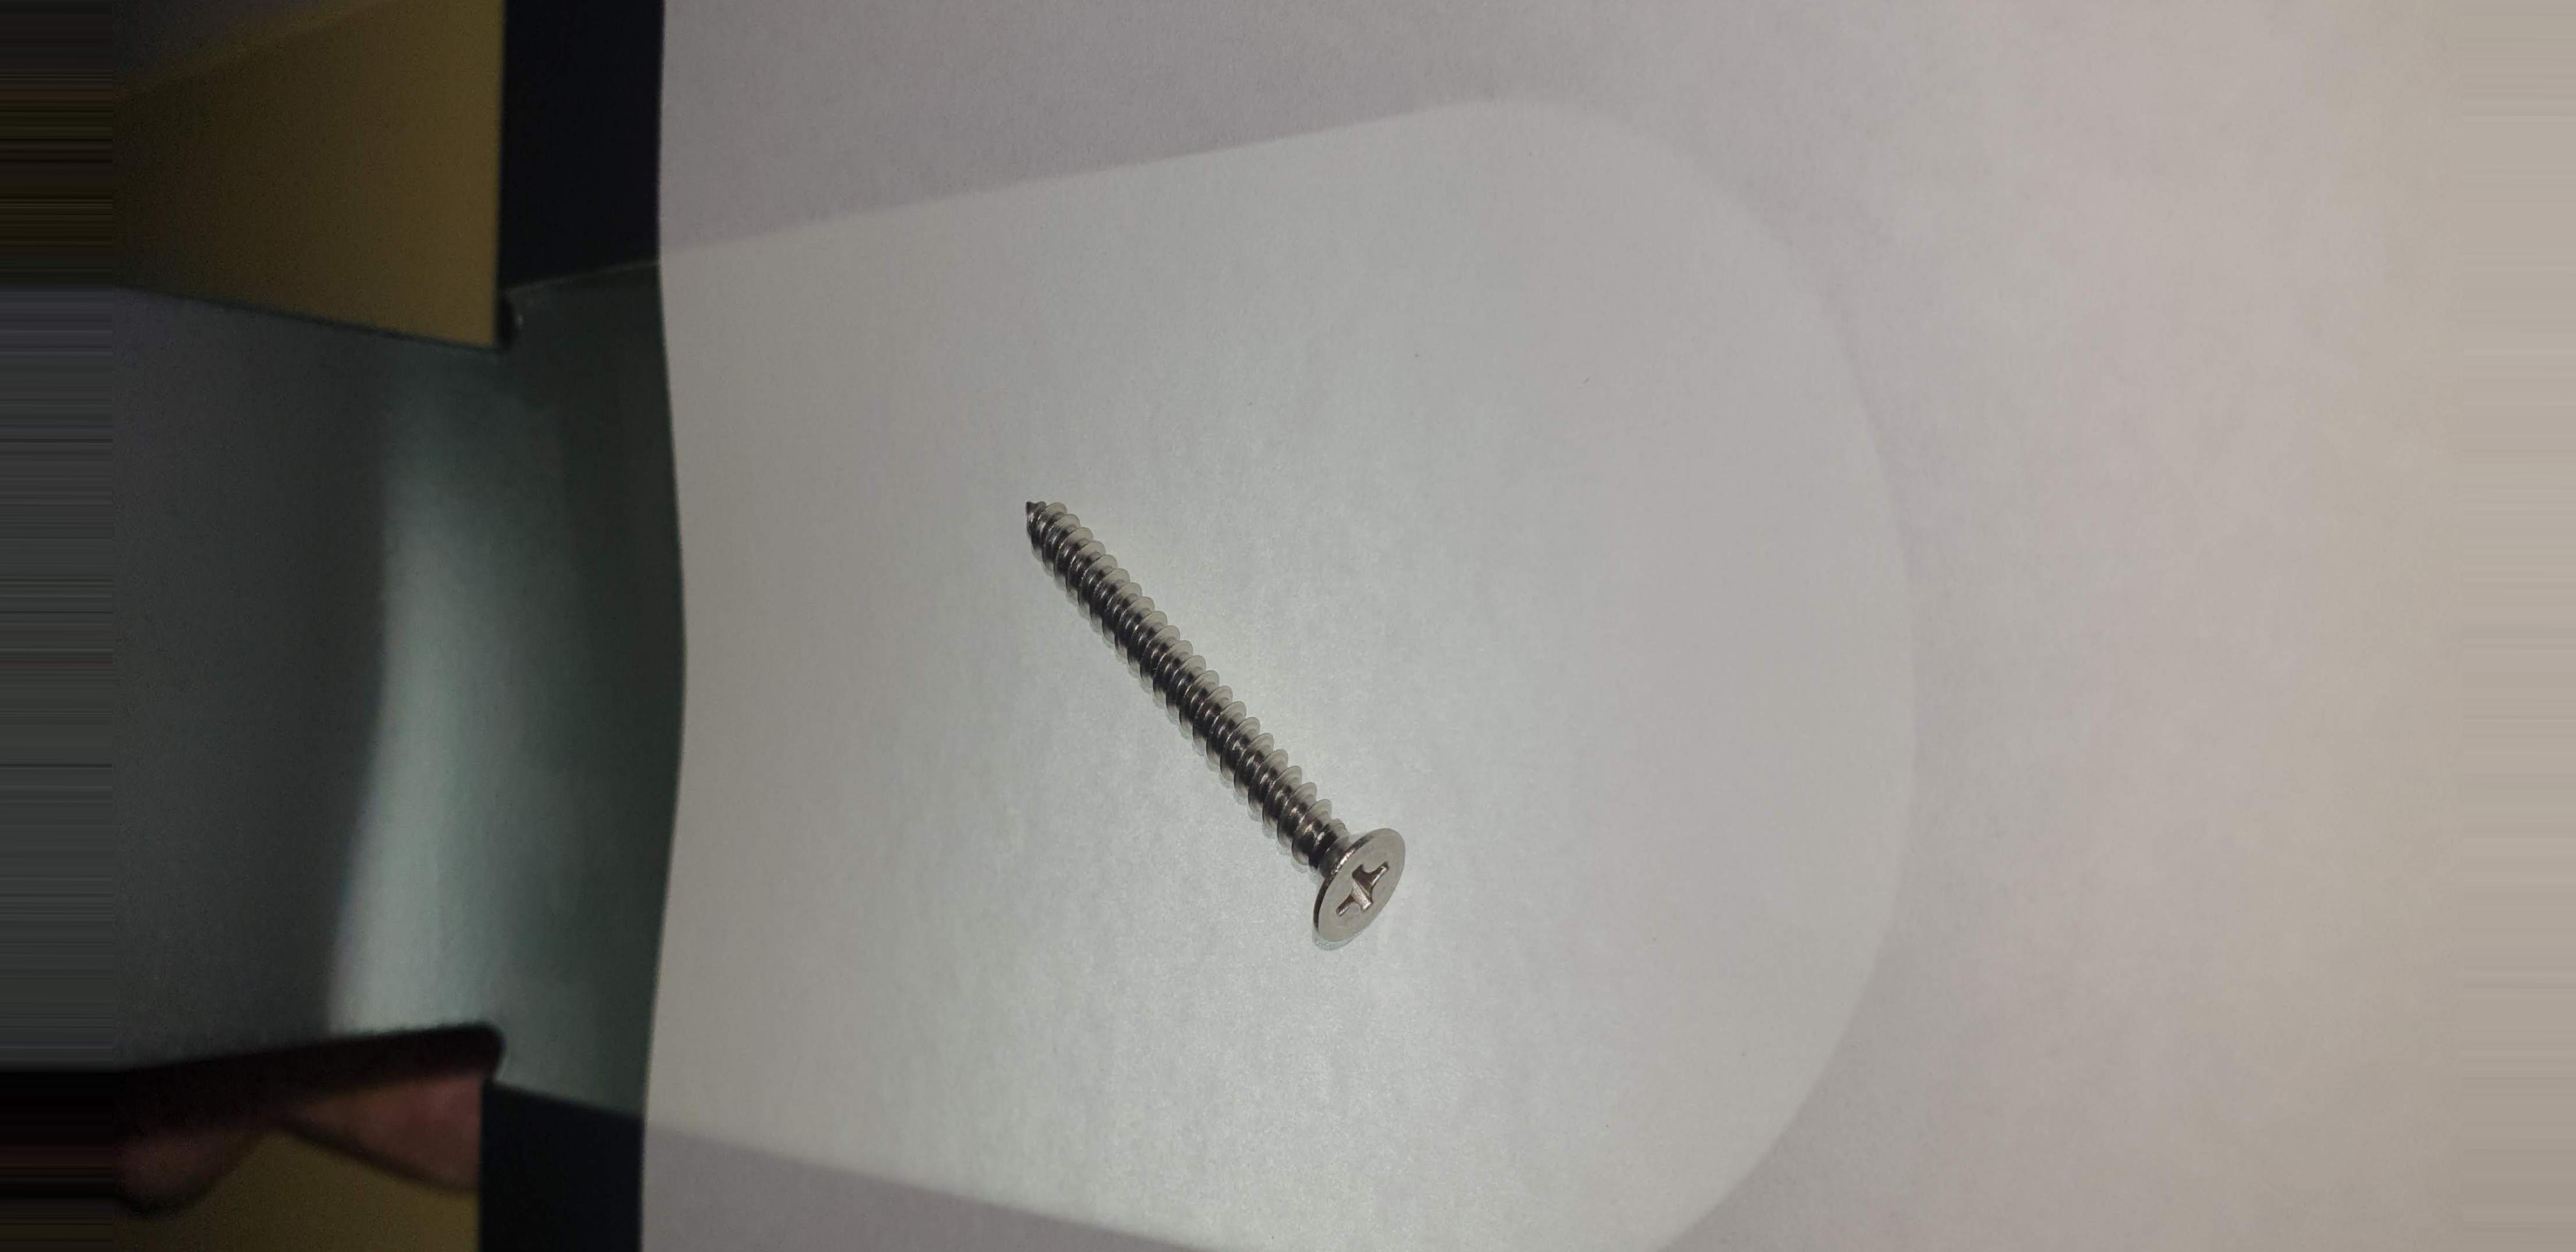fastener: (930, 444, 1502, 1006)
